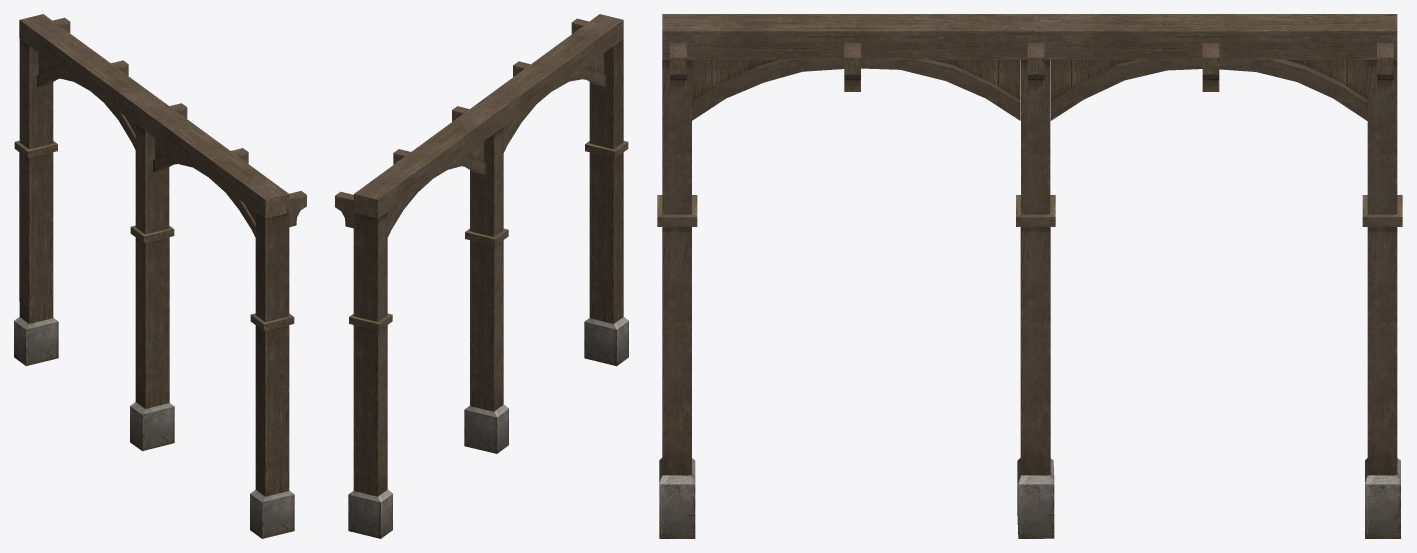
File: bg_lut_mawport_pubinprop01_sm_artree.FBX
3 views of the same model, side by side, from view 1: azimuth 30°, elevation 25°; view 2: azimuth 150°, elevation 25°; view 3: azimuth 270°, elevation 25° (orthographic). The views are drawn at different scales.
Parts seen in each view (by area): view 1: bg_lut_mawport_pubinprop01_sm_artree; view 2: bg_lut_mawport_pubinprop01_sm_artree; view 3: bg_lut_mawport_pubinprop01_sm_artree.
Part boxes in pixels (left/top/right/bottom): bg_lut_mawport_pubinprop01_sm_artree: left=14, top=14, right=306, bottom=538; bg_lut_mawport_pubinprop01_sm_artree: left=335, top=14, right=628, bottom=538; bg_lut_mawport_pubinprop01_sm_artree: left=657, top=14, right=1402, bottom=538.
Bounding box in the file's own units: 57.72 × 384 × 515.
